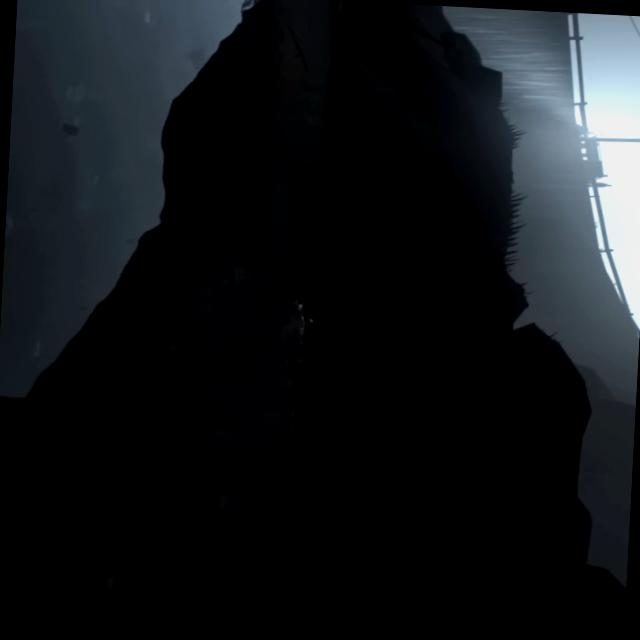boy: (296, 304, 314, 346)
